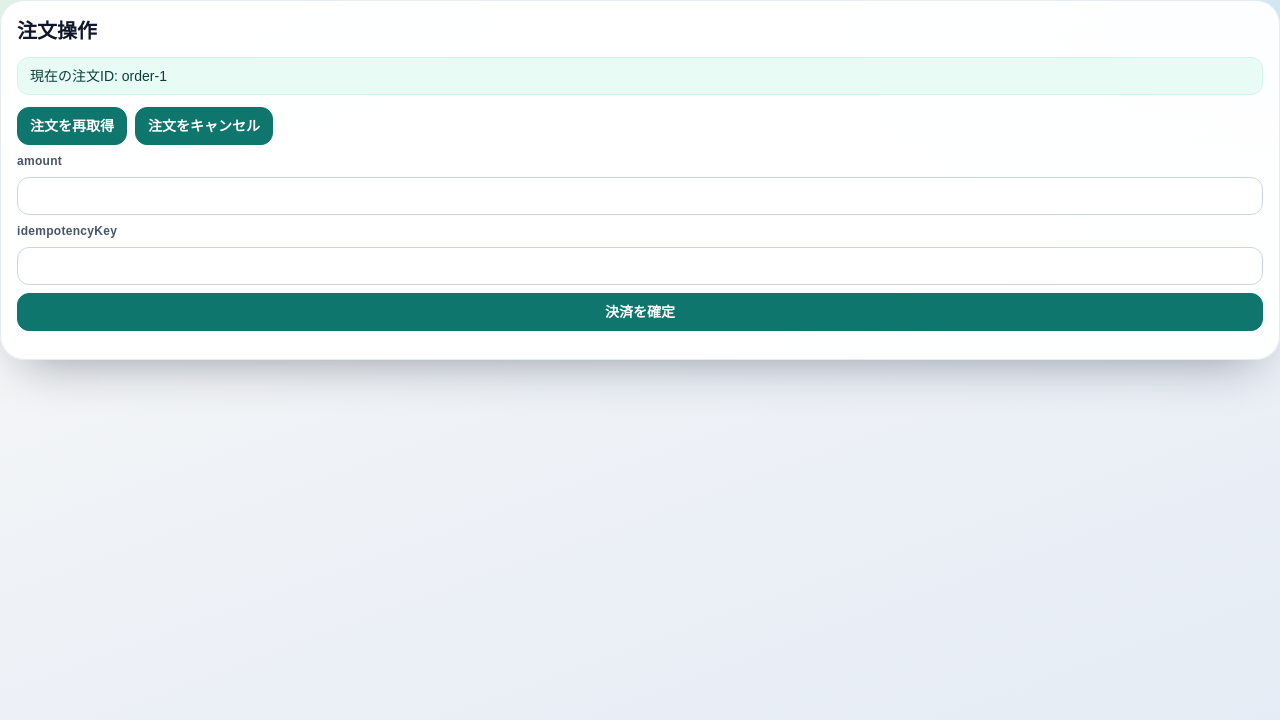
it: OrderActionsPanel › 注文キャンセルを実行できる
What coordinates should you click on to do the following:
click the button "注文をキャンセル"
I would click on:
 (204, 126)
Its box is x1=135 y1=107 x2=273 y2=145.
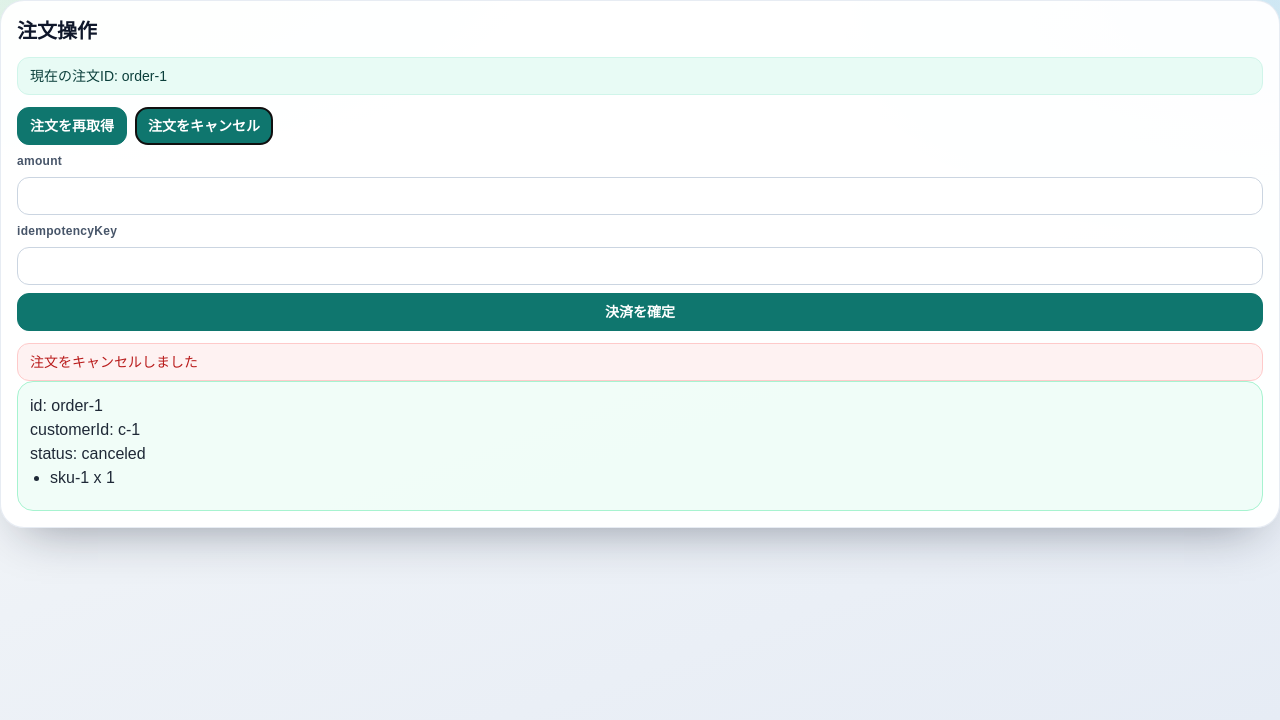
Now the text "注文をキャンセルしました" is shown, box x1=17 y1=343 x2=1263 y2=381
Now the text "status: canceled" is shown, box x1=30 y1=445 x2=146 y2=462
